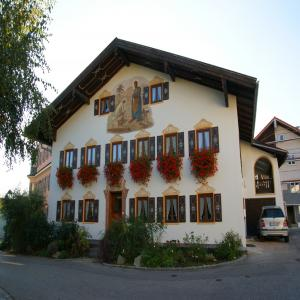Vehicle-registration-plate: (271, 223, 280, 227)
